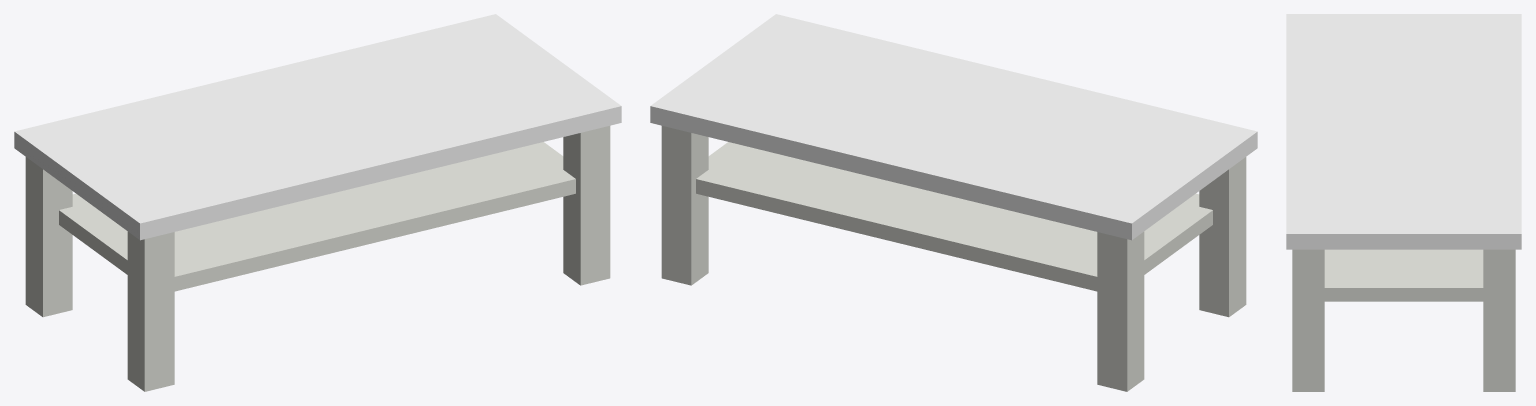
Rendered from Table_5A.fbx.
3 views of the same model, side by side, from view 1: azimuth 30°, elevation 25°; view 2: azimuth 150°, elevation 25°; view 3: azimuth 270°, elevation 25° (orthographic). The views are drawn at different scales.
Visible parts, largest first — view 1: polySurface2098; view 2: polySurface2098; view 3: polySurface2098.
Part boxes in pixels (box(x1,y1,x2,y2)): polySurface2098: box(14, 14, 621, 391); polySurface2098: box(650, 14, 1257, 391); polySurface2098: box(1286, 14, 1521, 391).
Bounding box in the file's own units: 2.1 × 0.72 × 0.95.
1 material, 1 textured.
